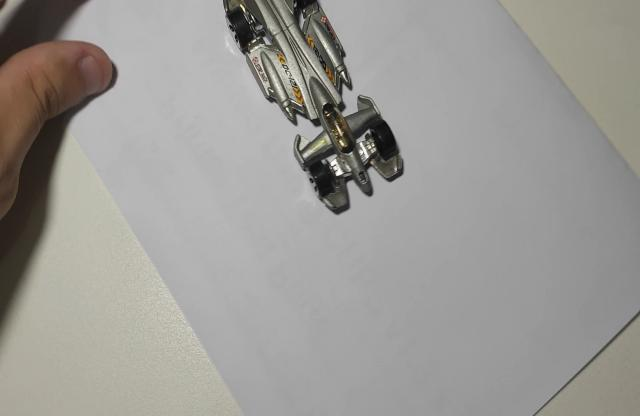05_DC121: (223, 0, 406, 216)
